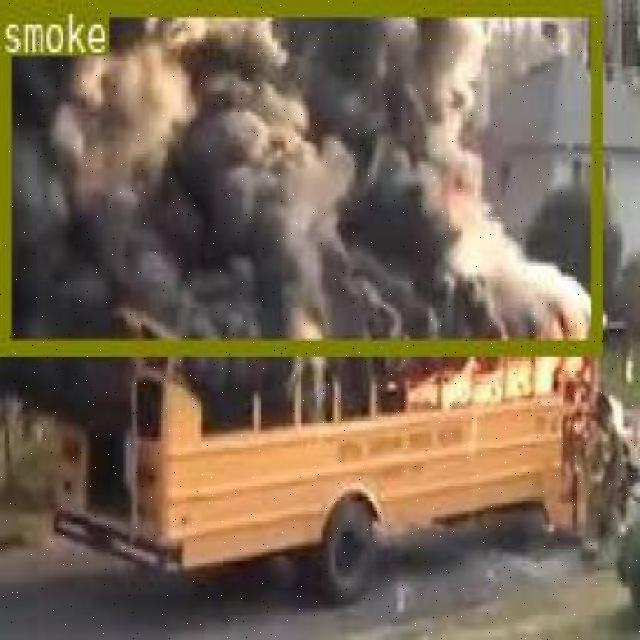Smoke: (0, 0, 600, 284)
